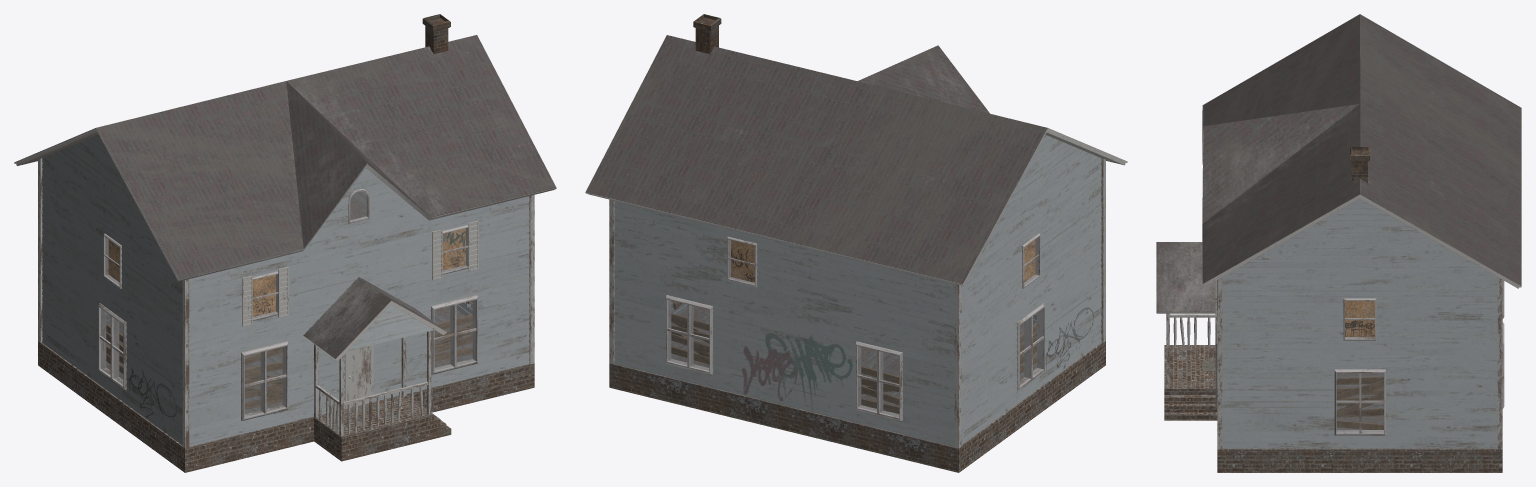
File: stash.gltf
3 views of the same model, side by side, from view 1: azimuth 30°, elevation 25°; view 2: azimuth 150°, elevation 25°; view 3: azimuth 270°, elevation 25° (orthographic). The views are drawn at different scales.
Parts seen in each view (by area): view 1: Panels, Roof.001, Floor, Plane.002, Cube.006, Cube.013, Plane.005, Cube.007, Cylinder, Cube.012, Door.001, Cube.021 (+3 smaller); view 2: Panels, Roof.001, Floor, Plane.002, Cube.006, Cube.014, Cube.010, Cube.009, Plane.010; view 3: Roof.001, Panels, Floor, Plane.002, Cube.013, Cube.006, Cube.011, Plane.008, Cube.009, Cylinder.
Part boxes in pixels (<box>): Panels: <box>42,134,529,446</box>; Roof.001: <box>14,35,556,281</box>; Floor: <box>38,306,534,472</box>; Plane.002: <box>98,189,477,420</box>; Cube.006: <box>38,158,534,448</box>; Cube.013: <box>303,277,446,360</box>; Plane.005: <box>242,220,478,326</box>; Cube.007: <box>348,304,433,350</box>; Cylinder: <box>319,386,423,433</box>; Cube.012: <box>244,347,282,409</box>; Door.001: <box>347,345,371,407</box>; Cube.021: <box>434,314,472,361</box>; Panels: <box>614,135,1101,446</box>; Roof.001: <box>585,35,1127,285</box>; Floor: <box>609,306,1105,472</box>; Plane.002: <box>666,233,1044,420</box>; Cube.006: <box>609,158,1105,448</box>; Cube.014: <box>671,313,709,364</box>; Cube.010: <box>861,366,899,413</box>; Cube.009: <box>693,14,721,53</box>; Plane.010: <box>731,240,754,282</box>; Roof.001: <box>1202,14,1521,288</box>; Panels: <box>1222,198,1497,448</box>; Floor: <box>1164,345,1502,472</box>; Plane.002: <box>1215,280,1504,435</box>; Cube.013: <box>1156,242,1217,313</box>; Cube.006: <box>1166,277,1502,449</box>; Cube.011: <box>1336,376,1383,429</box>; Plane.008: <box>1345,301,1374,336</box>; Cube.009: <box>1350,147,1369,182</box>; Cylinder: <box>1169,317,1210,346</box>.
Bounding box in the file's own units: 13.45 × 10.8 × 11.52.
8 materials, 8 textured.
